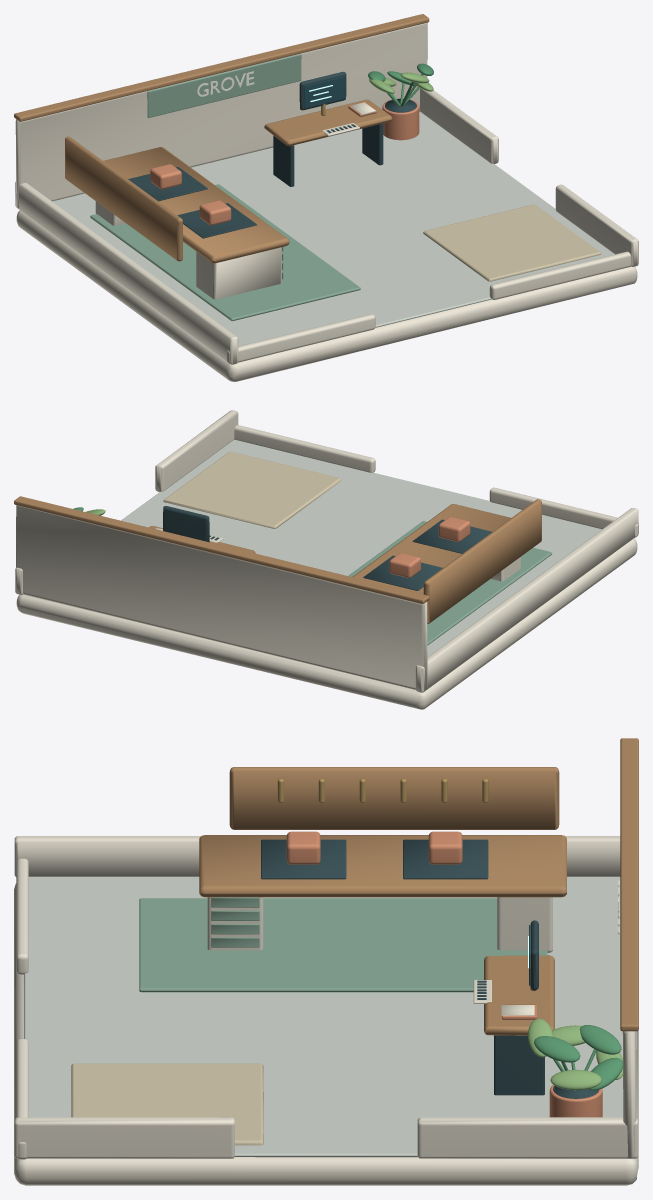
The model's file is grove.glb.
3 renders of one model, top to bottom at view 1: azimuth 30°, elevation 25°; view 2: azimuth 150°, elevation 25°; view 3: azimuth 270°, elevation 25°, orthographic. The views are drawn at different scales.
Parts seen in each view (by area): view 1: Grove / inset floor.001, Grove / back wall.001, Grove / foundation.001, Grove / sleep bay.001, Grove / runner.001, Grove / side knee wall.003, Grove / long workbench.001, Grove / peg rail.001, Grove / back cap.001, Grove / identity band.001, Grove / tool drawers.002, Grove / desk B / top.001 (+12 smaller); view 2: Grove / back wall.001, Grove / inset floor.001, Grove / foundation.001, Grove / sleep bay.001, Grove / side knee wall.003, Grove / peg rail.001, Grove / back cap.001, Grove / long workbench.001, Grove / side knee wall.004, Grove / runner.001, Grove / entrance curb.003, Grove / entrance curb.002 (+5 smaller); view 3: Grove / inset floor.001, Grove / runner.001, Grove / peg rail.001, Grove / foundation.001, Grove / long workbench.001, Grove / sleep bay.001, Grove / side knee wall.003, Grove / side knee wall.004, Grove / side knee wall.005, Grove / back cap.001, Grove / desk B / top.001, Grove / desk B / trestle.003 (+14 smaller).
Part boxes in pixels (left/top/right/bottom): Grove / inset floor.001: left=52, top=111, right=614, bottom=346; Grove / back wall.001: left=15, top=22, right=427, bottom=208; Grove / foundation.001: left=16, top=210, right=637, bottom=381; Grove / sleep bay.001: left=423, top=204, right=600, bottom=281; Grove / runner.001: left=90, top=184, right=360, bottom=321; Grove / side knee wall.003: left=15, top=182, right=238, bottom=364; Grove / long workbench.001: left=103, top=147, right=289, bottom=263; Grove / peg rail.001: left=65, top=136, right=182, bottom=261; Grove / back cap.001: left=14, top=14, right=429, bottom=121; Grove / identity band.001: left=147, top=54, right=301, bottom=117; Grove / tool drawers.002: left=196, top=247, right=281, bottom=299; Grove / desk B / top.001: left=264, top=99, right=392, bottom=146; Grove / back wall.001: left=16, top=505, right=427, bottom=690; Grove / inset floor.001: left=121, top=439, right=601, bottom=656; Grove / foundation.001: left=16, top=538, right=637, bottom=709; Grove / sleep bay.001: left=163, top=451, right=341, bottom=528; Grove / side knee wall.003: left=415, top=508, right=638, bottom=692; Grove / peg rail.001: left=423, top=499, right=541, bottom=624; Grove / back cap.001: left=14, top=496, right=429, bottom=603; Grove / long workbench.001: left=352, top=504, right=510, bottom=594; Grove / side knee wall.004: left=155, top=410, right=238, bottom=491; Grove / runner.001: left=348, top=521, right=552, bottom=645; Grove / entrance curb.003: left=234, top=425, right=375, bottom=472; Grove / entrance curb.002: left=489, top=487, right=638, bottom=537; Grove / inset floor.001: left=24, top=876, right=623, bottom=1157; Grove / runner.001: left=139, top=898, right=547, bottom=992; Grove / peg rail.001: left=229, top=767, right=559, bottom=829; Grove / foundation.001: left=14, top=883, right=638, bottom=1185; Grove / long workbench.001: left=199, top=835, right=566, bottom=897; Grove / sleep bay.001: left=71, top=1063, right=263, bottom=1145; Grove / side knee wall.003: left=14, top=836, right=620, bottom=876; Grove / side knee wall.004: left=14, top=1117, right=234, bottom=1158; Grove / side knee wall.005: left=417, top=1117, right=637, bottom=1158; Grove / back cap.001: left=620, top=738, right=638, bottom=1031; Grove / desk B / top.001: left=484, top=955, right=554, bottom=1035; Grove / desk B / trestle.003: left=494, top=1035, right=544, bottom=1095.
Size of the model in its own units: 12 by 3.19 by 11.01.
